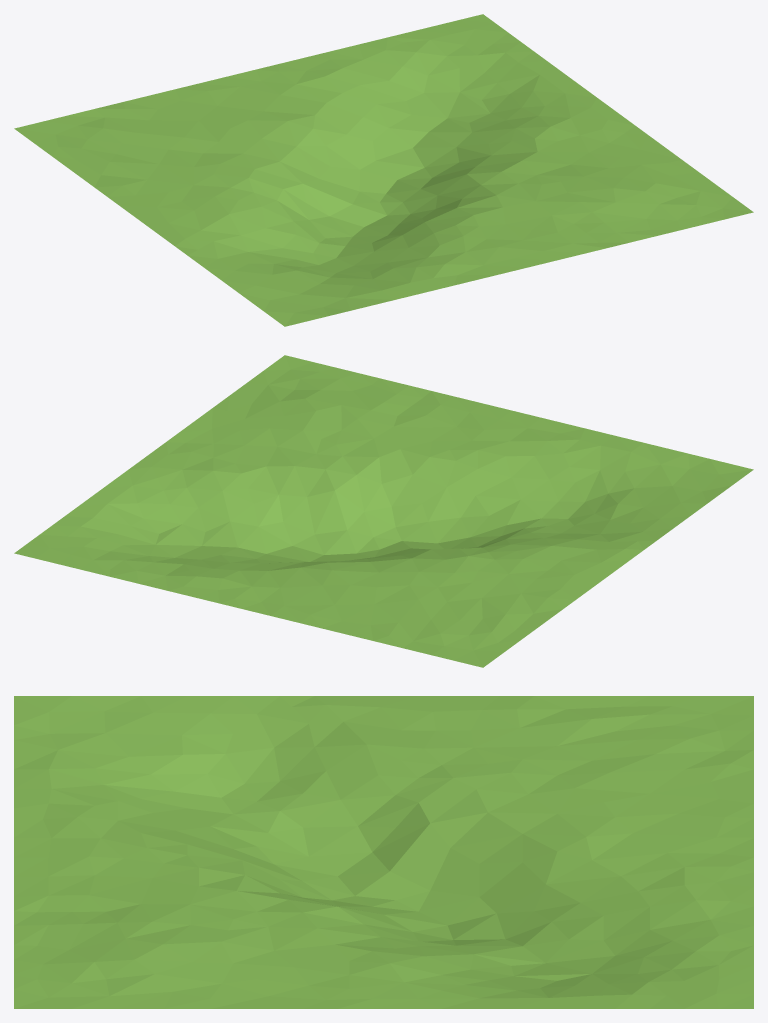
File: MT_Terrain_M_b_12_LOD.fbx
3 renders of one model, top to bottom at view 1: azimuth 30°, elevation 25°; view 2: azimuth 150°, elevation 25°; view 3: azimuth 270°, elevation 25°, orthographic. The views are drawn at different scales.
Parts seen in each view (by area): view 1: MT_Terrain_M_b_12_LOD0; view 2: MT_Terrain_M_b_12_LOD0; view 3: MT_Terrain_M_b_12_LOD0.
Part boxes in pixels (x1,y1,x2,y2): MT_Terrain_M_b_12_LOD0: (14,14,753,326); MT_Terrain_M_b_12_LOD0: (14,355,753,667); MT_Terrain_M_b_12_LOD0: (14,696,753,1008).
Size of what is drawn, in the model's own units: 5000 by 423 by 5000.
